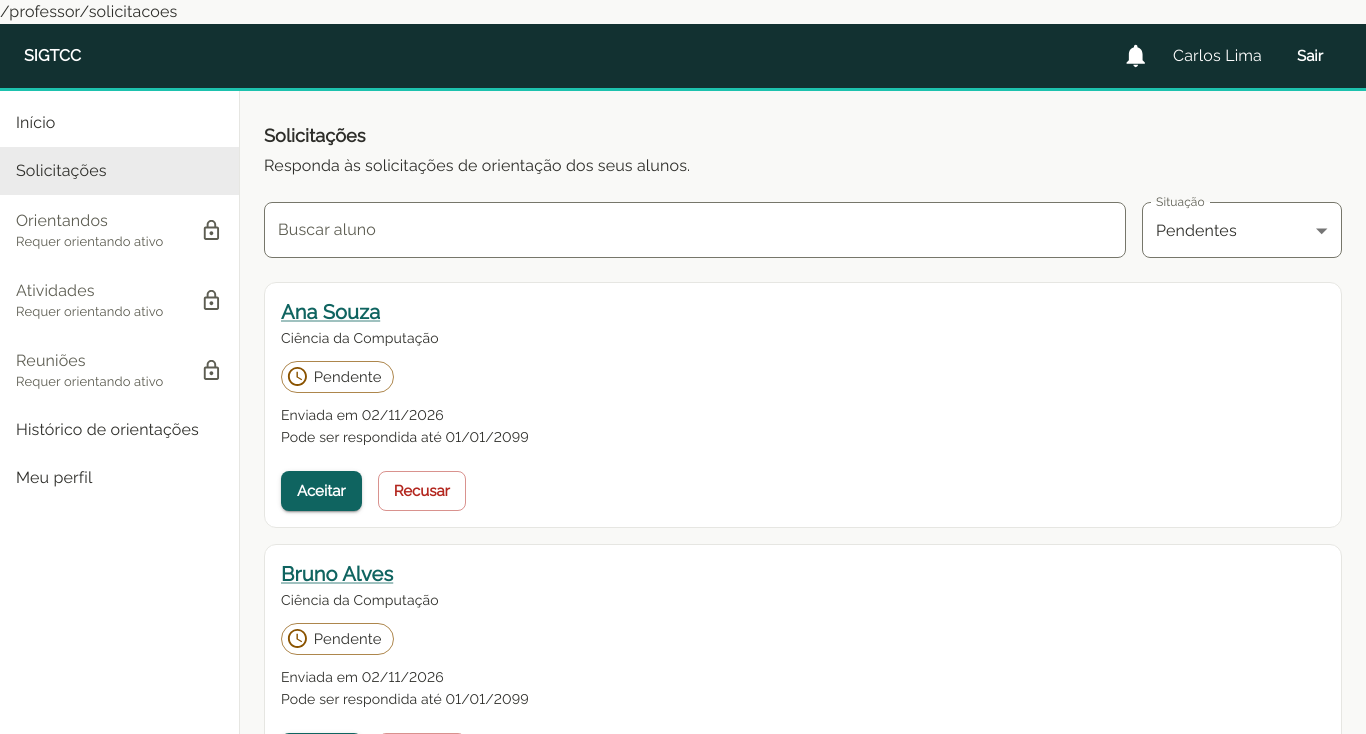
it: Solicitações do professor: a lista relida a cada 30 s › a solicitação respondida aqui continua no lugar, com a resposta e o foco, quando a releitura a tira de Pendentes
This screenshot has width=1366, height=734.
Expected: the element "Ana Souza" is shown, [264, 282, 1342, 528]
Click the button "Aceitar" below "Ana Souza": (321, 491) [281, 471, 362, 511]
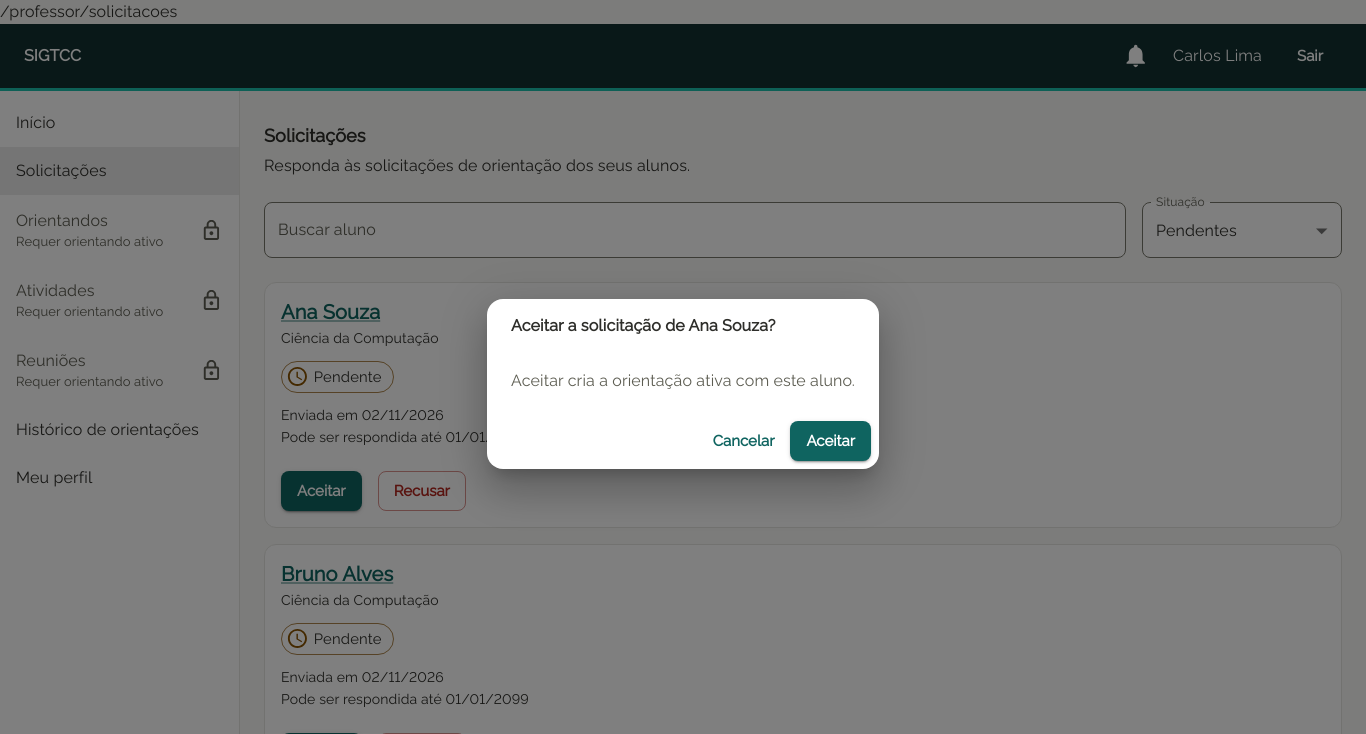
Click the button "Aceitar": (831, 441) [790, 421, 871, 461]
Wait 30000 ms
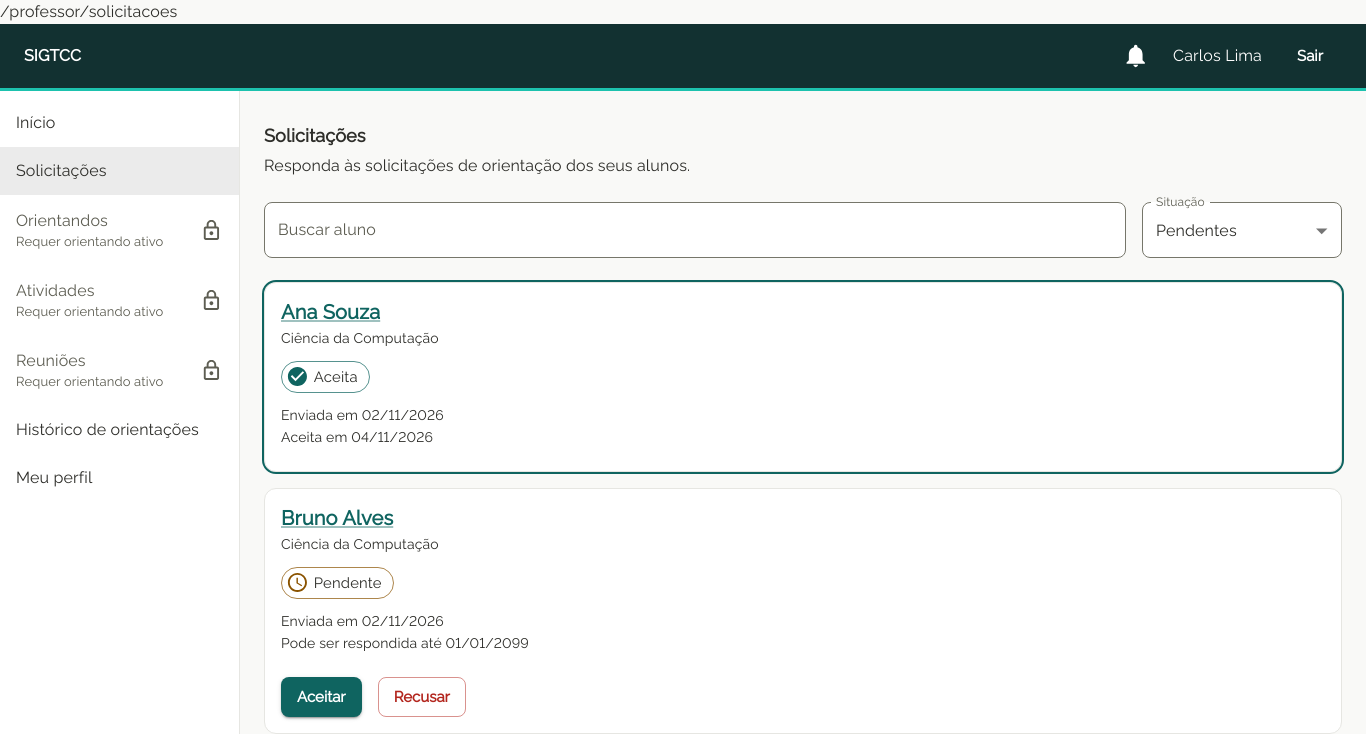
Expected: the headings read "Ana Souza", "Bruno Alves", in this order, [281, 300, 380, 324]; [281, 506, 393, 530]
Expected: the text "Aceita" is shown, [314, 368, 358, 385]
